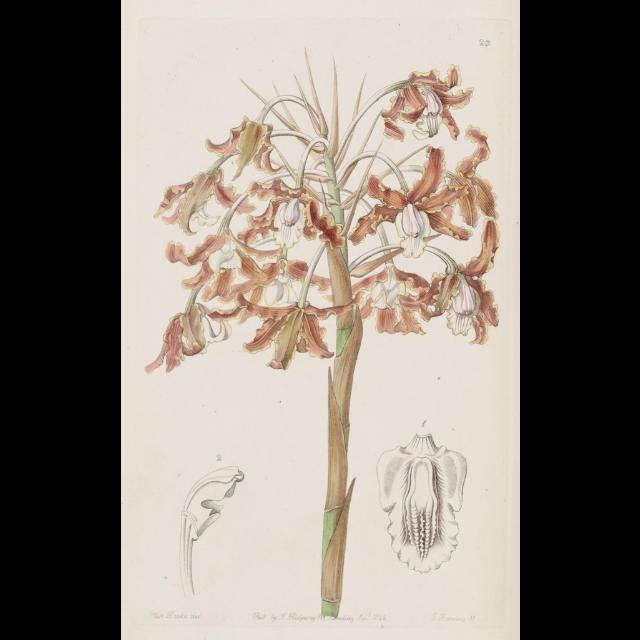Flower: (142, 63, 500, 374), (376, 433, 462, 569), (177, 465, 241, 593)
